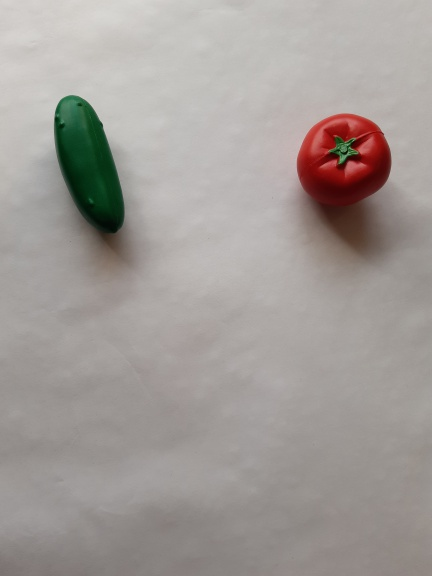cucumber: (41, 80, 134, 248)
tomato: (292, 108, 396, 214)
